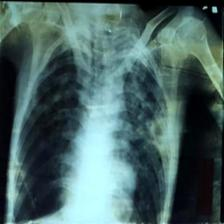tuberculosis: (13, 17, 176, 222)
